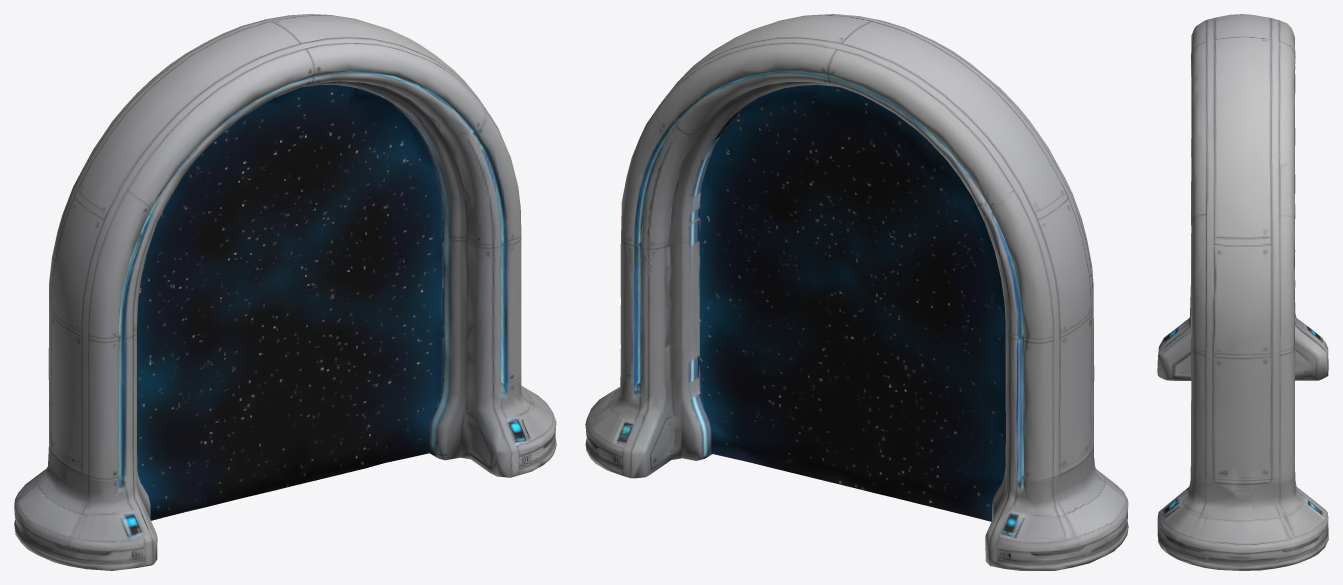
The model's file is PropWall_Spaceport_EntranceArchway2.fbx.
The picture shows the model from 3 angles, left to right: view 1: azimuth 30°, elevation 25°; view 2: azimuth 150°, elevation 25°; view 3: azimuth 270°, elevation 25°; orthographic projection. The views are drawn at different scales.
Visible parts, largest first — view 1: mesh_node; view 2: mesh_node; view 3: mesh_node.
Boxes of the visible parts, left/top/right/bottom form: mesh_node: left=14, top=14, right=556, bottom=570; mesh_node: left=585, top=14, right=1128, bottom=570; mesh_node: left=1157, top=14, right=1328, bottom=570.
Bounding box in the file's own units: 1.98 × 1.68 × 0.6216.
